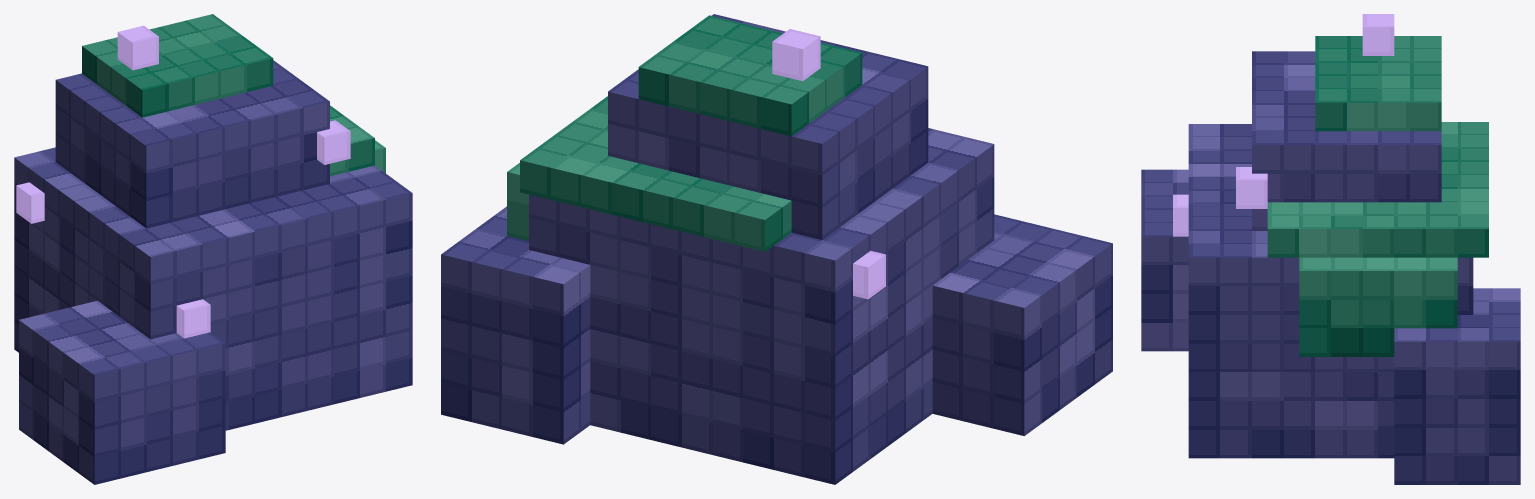
The model's file is MossStone.glb.
3 views of the same model, side by side, from view 1: azimuth 30°, elevation 25°; view 2: azimuth 150°, elevation 25°; view 3: azimuth 270°, elevation 25° (orthographic). The views are drawn at different scales.
Visible parts, largest first — view 1: Body, Accessory, Glow; view 2: Body, Accessory, Glow; view 3: Body, Accessory, Glow.
Boxes of the visible parts, x1,y1,x2,y2 form: Body: (14,60,412,484); Accessory: (82,14,385,176); Glow: (16,25,350,338); Body: (441,14,1112,484); Accessory: (507,15,862,251); Glow: (772,29,885,299); Body: (1141,51,1520,484); Accessory: (1267,36,1488,356); Glow: (1173,14,1394,236).
Size of the model in its own units: 3.75 by 3 by 3.
Materials: 3 (3 with a texture image).
